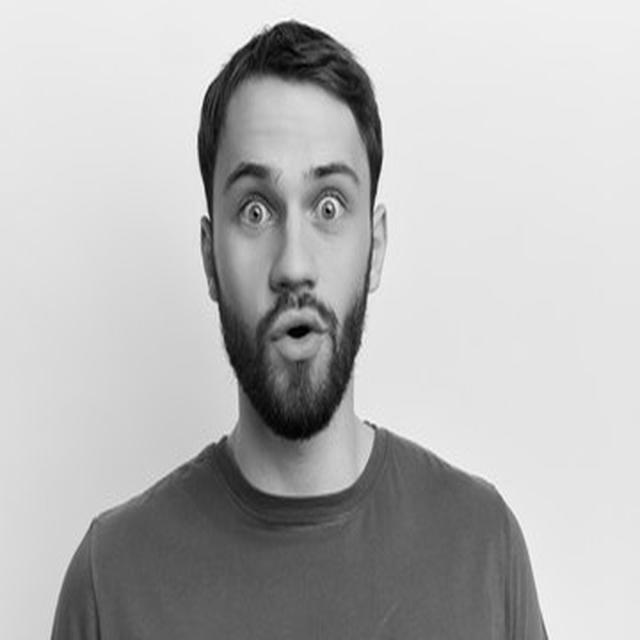Surprised: (213, 79, 374, 439)
